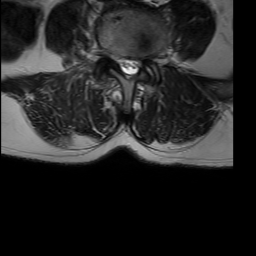CCS_normal: (125, 48, 133, 84)
LFS_severe_stenosis: (142, 46, 150, 69)
LLS_normal: (133, 51, 142, 78)
RFS_stenosis: (108, 42, 116, 68)
RLS_normal: (116, 47, 125, 76)
